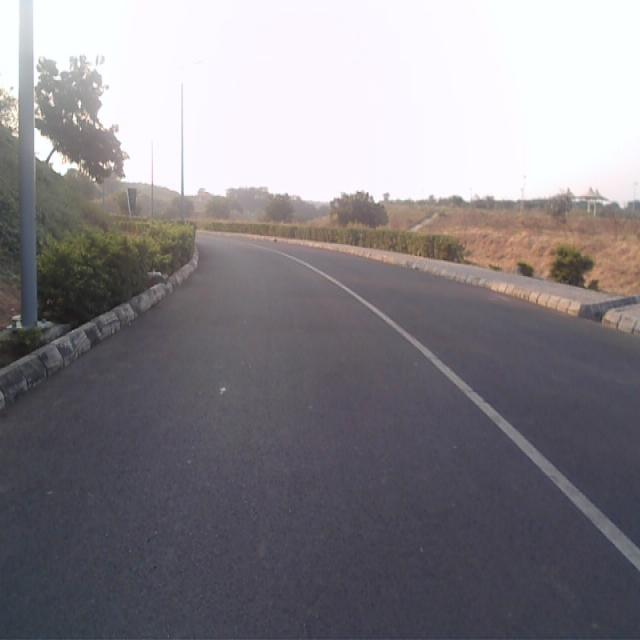lane: (0, 238, 640, 640)
